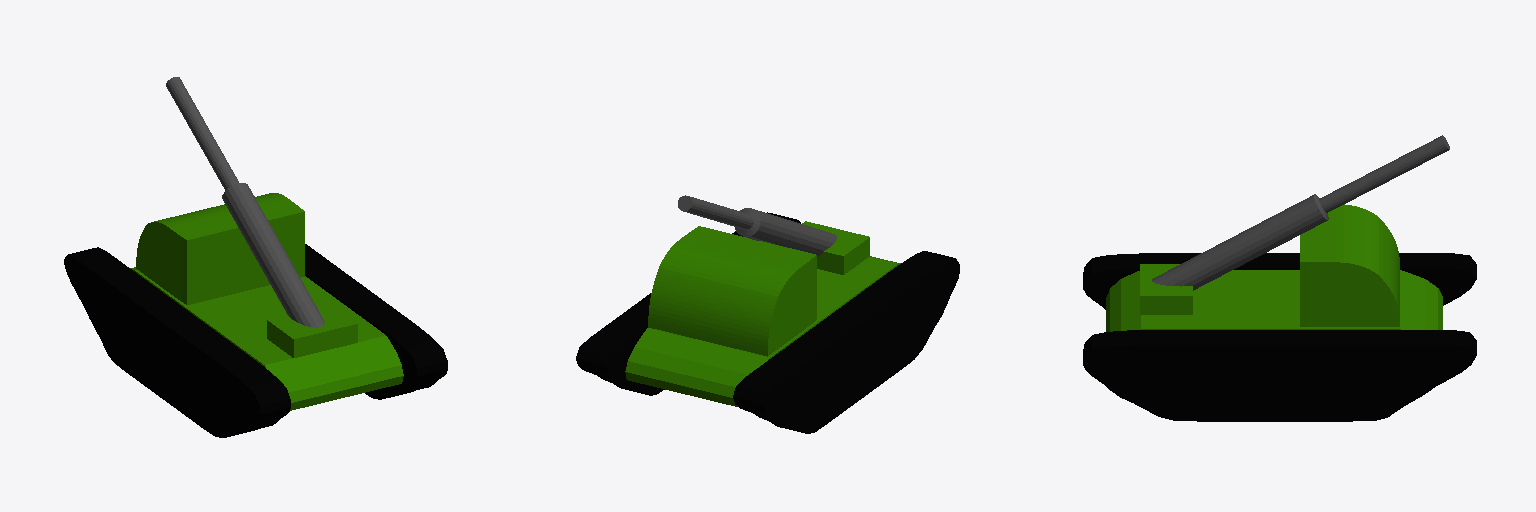
Rendered from Gun.obj.
3 views of the same model, side by side, from view 1: azimuth 30°, elevation 25°; view 2: azimuth 150°, elevation 25°; view 3: azimuth 270°, elevation 25° (orthographic).
Visible parts, largest first — view 1: Box003, Box001, Box004, Cylinder001, Box002, Box005; view 2: Box003, Box004, Box001, Box002, Cylinder001, Box005; view 3: Box002, Box001, Box004, Cylinder001, Box003, Box005.
Boxes of the visible parts, box(x1,y1,x2,y2) form: Box003: box(64, 247, 290, 437); Box001: box(130, 267, 403, 410); Box004: box(136, 193, 304, 304); Cylinder001: box(166, 77, 324, 327); Box002: box(305, 244, 447, 399); Box005: box(267, 304, 357, 357); Box003: box(733, 251, 959, 433); Box004: box(648, 226, 816, 356); Box001: box(625, 256, 900, 406); Box002: box(576, 212, 800, 395); Cylinder001: box(678, 195, 836, 257); Box005: box(802, 221, 869, 274); Box002: box(1083, 330, 1476, 421); Box001: box(1106, 270, 1442, 331); Box004: box(1300, 204, 1399, 326); Cylinder001: box(1152, 135, 1449, 290); Box003: box(1083, 253, 1476, 309); Box005: box(1140, 264, 1192, 314).
Bounding box in the file's own units: 1.29 × 1.57 × 2.33.